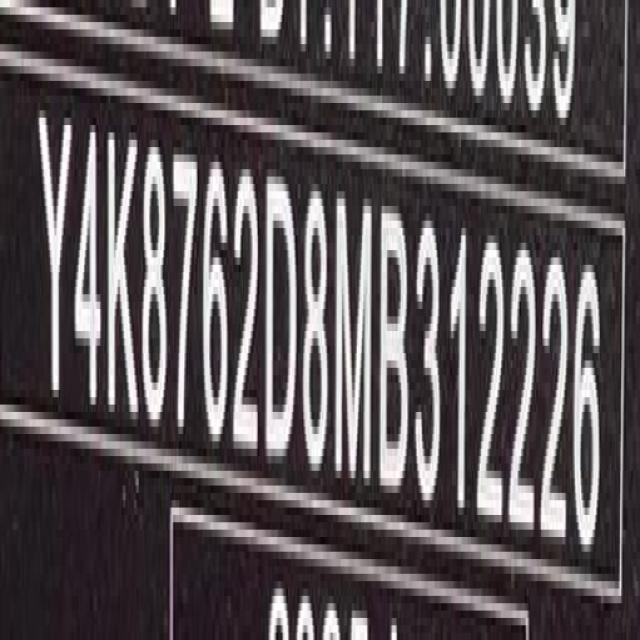1: (451, 215, 471, 525)
2: (542, 249, 572, 556), (232, 160, 260, 462), (510, 242, 537, 544), (480, 232, 504, 528)
3: (418, 214, 443, 511)
4: (74, 114, 105, 422)
6: (202, 150, 230, 453), (575, 259, 603, 558)
7: (174, 144, 200, 447)
8: (143, 133, 168, 431)
B: (382, 199, 413, 500), (304, 179, 332, 475)
D: (266, 167, 297, 469)
K: (108, 128, 138, 429)
M: (336, 188, 375, 490)
Y: (38, 102, 72, 417)
